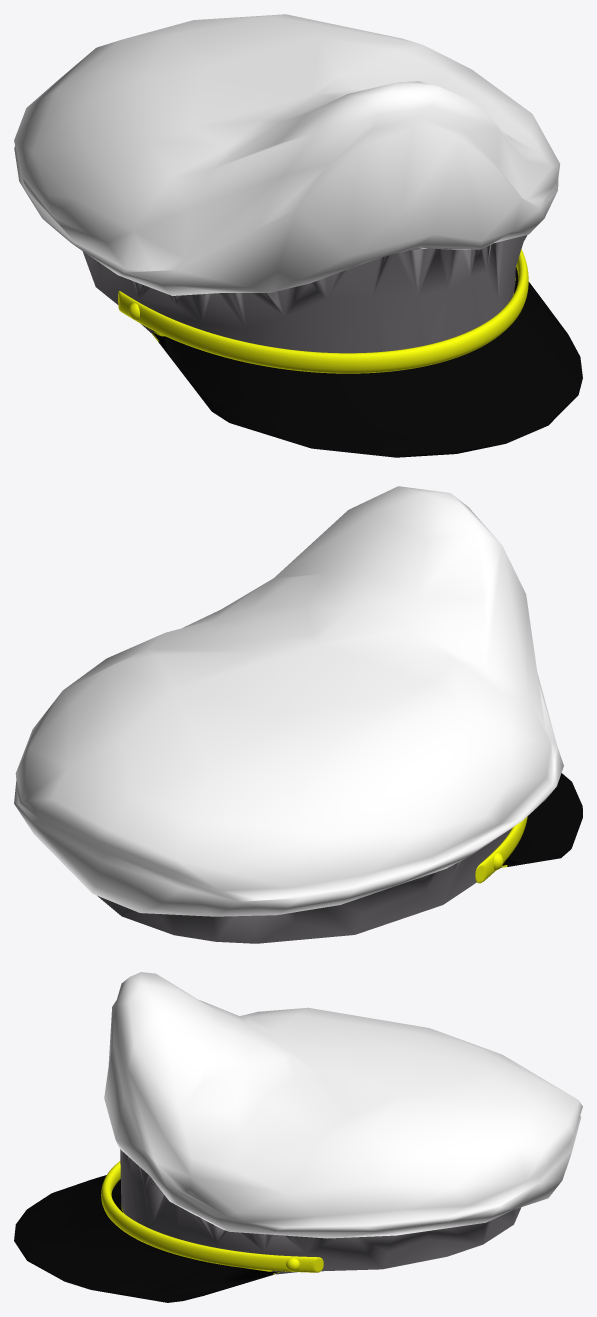
File: CapitanHat.fbx
The picture shows the model from 3 angles, top to bottom: view 1: azimuth 30°, elevation 25°; view 2: azimuth 150°, elevation 25°; view 3: azimuth 270°, elevation 25°; orthographic projection. The views are drawn at different scales.
Visible parts, largest first — view 1: hat_Circle, band_Circle.001; view 2: hat_Circle, band_Circle.001; view 3: hat_Circle, band_Circle.001.
Boxes of the visible parts, <box> form: hat_Circle: <box>14,14,582,457</box>; band_Circle.001: <box>118,249,528,373</box>; hat_Circle: <box>14,486,582,943</box>; band_Circle.001: <box>475,816,527,883</box>; hat_Circle: <box>14,972,582,1302</box>; band_Circle.001: <box>101,1161,323,1272</box>.
Bounding box in the file's own units: 628 × 413 × 863.
